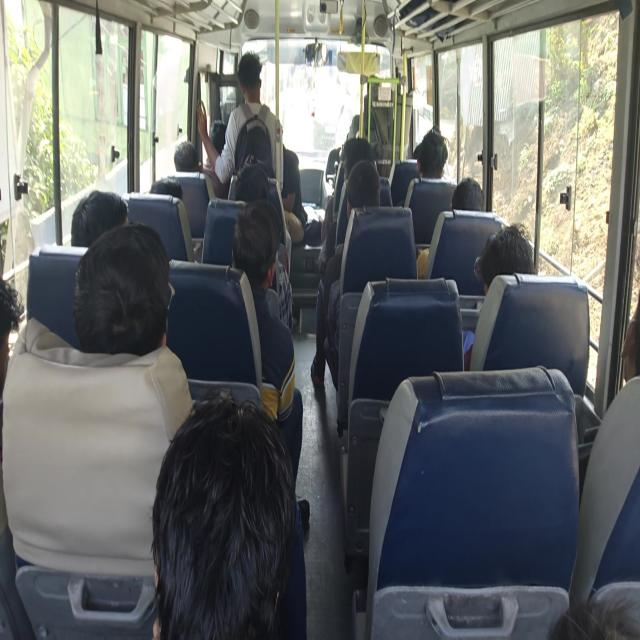person: (160, 412, 295, 640), (77, 230, 186, 330), (478, 218, 559, 336), (276, 125, 323, 277), (602, 265, 640, 385), (233, 208, 278, 293), (64, 194, 133, 240), (0, 304, 40, 373), (351, 164, 398, 218), (177, 135, 212, 205), (413, 137, 457, 187), (457, 182, 498, 225), (242, 51, 262, 129), (228, 169, 273, 199), (408, 137, 443, 171), (154, 180, 190, 212), (206, 126, 233, 163), (239, 152, 271, 177), (342, 141, 372, 162)
